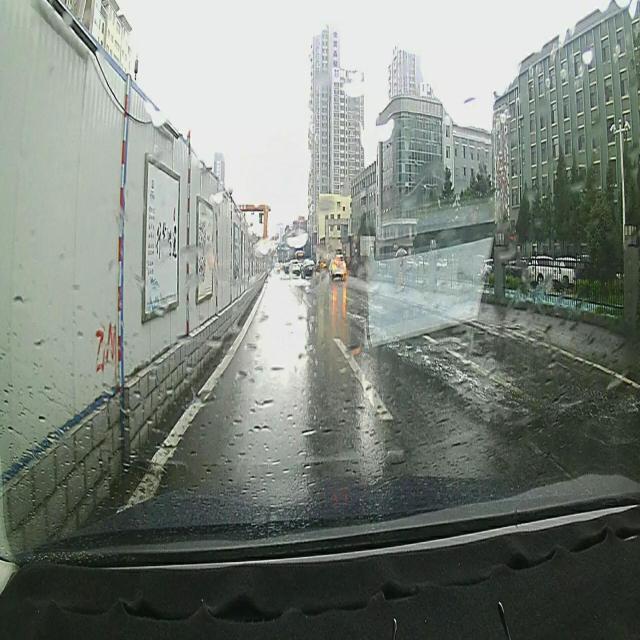car: (328, 252, 349, 282), (301, 259, 317, 278)
